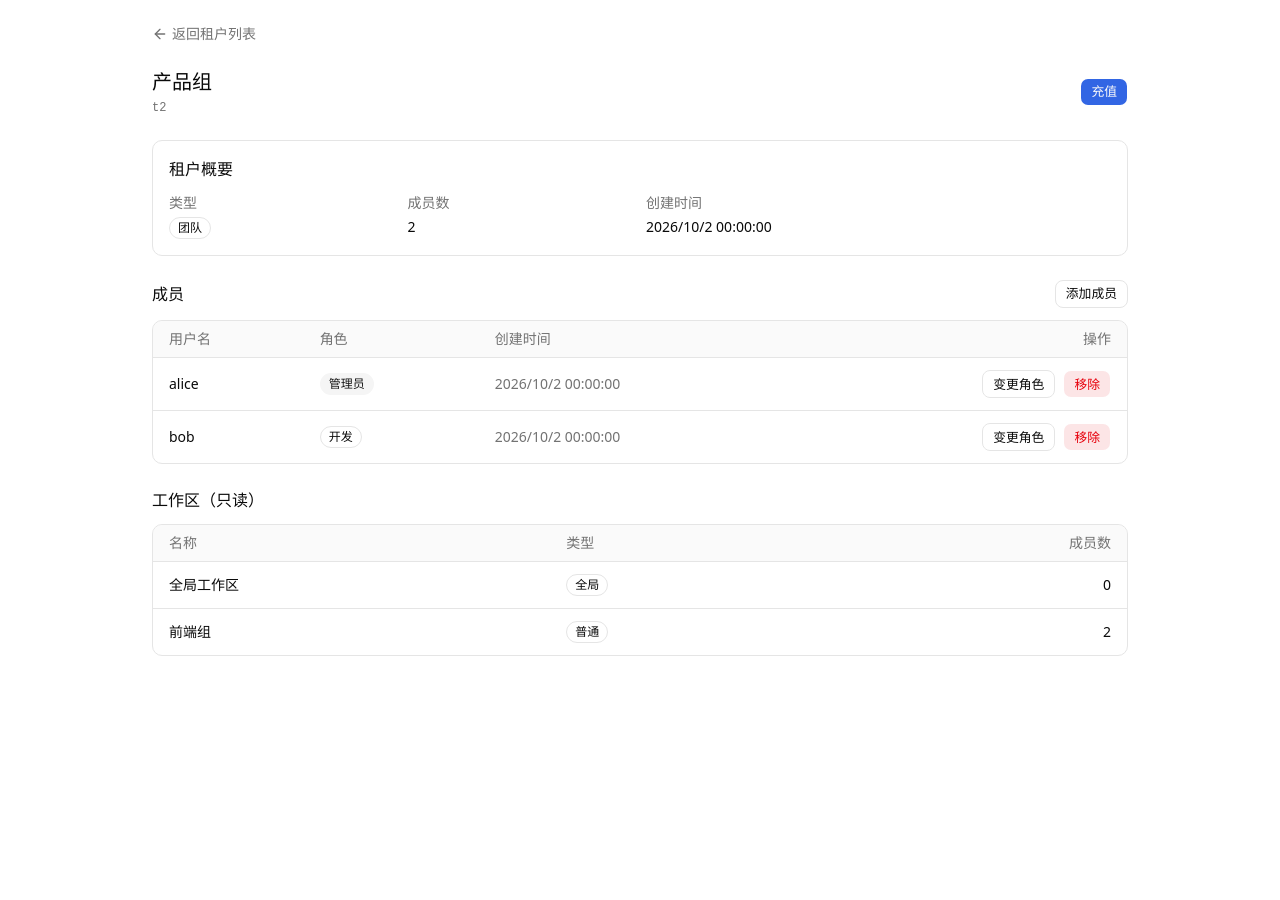
Test: TenantDetailPage › 添加成员未填登录名时本地拦截
Click the button "添加成员" at (1091, 294), box [1055,280,1128,308]
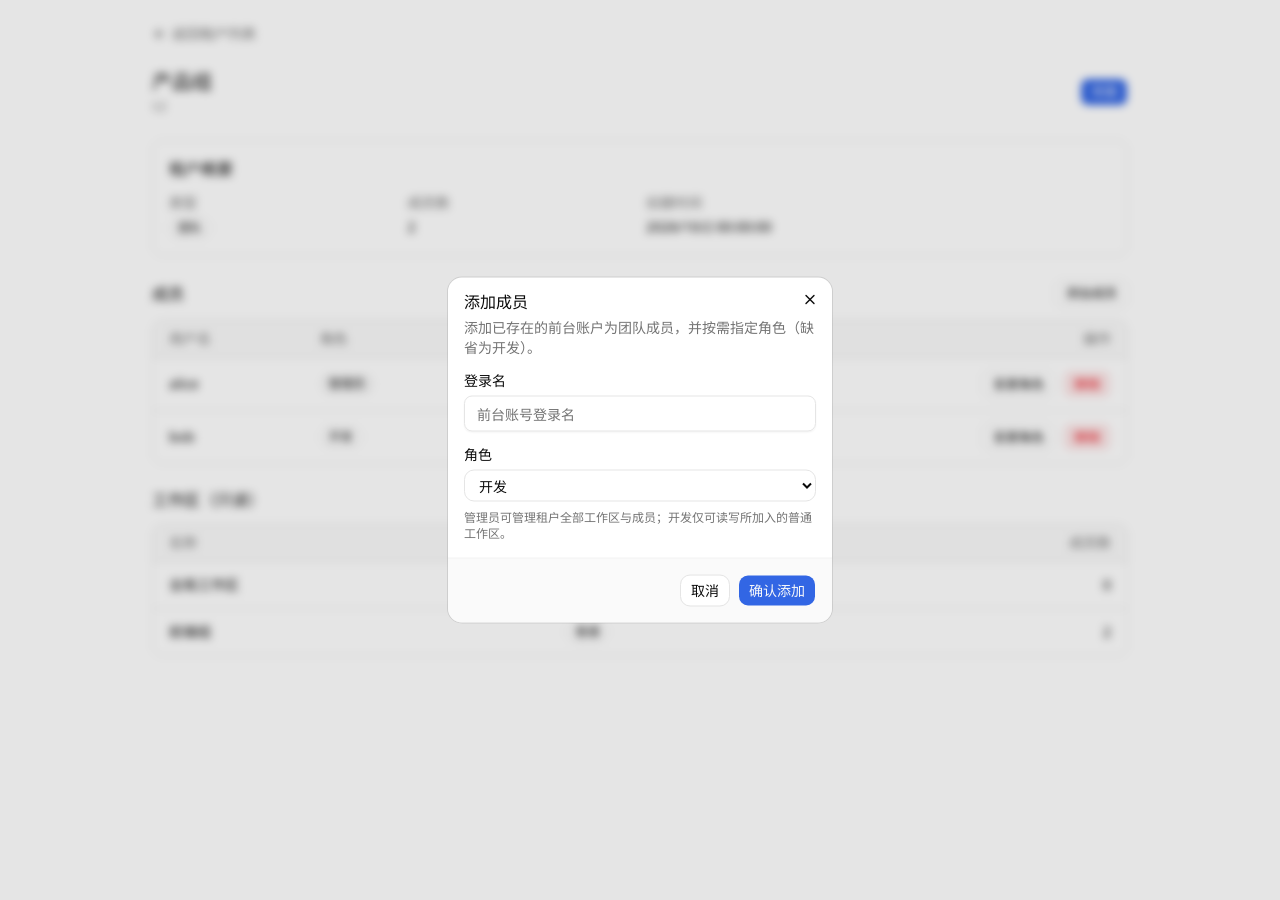
Click the button "确认添加" at (777, 590), box [738,574,816,606]
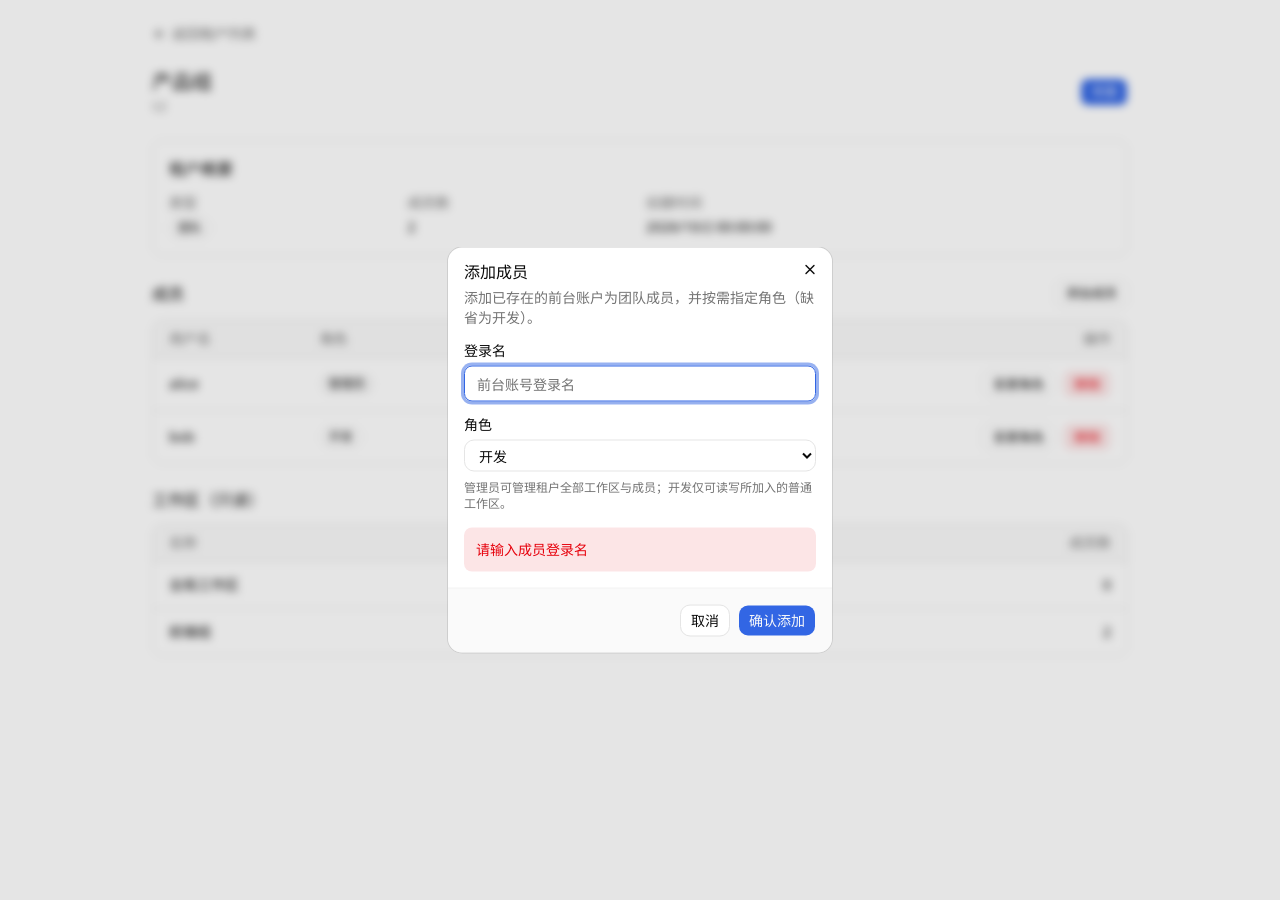
Check: the message reads "请输入成员登录名", box [476,540,588,558]
